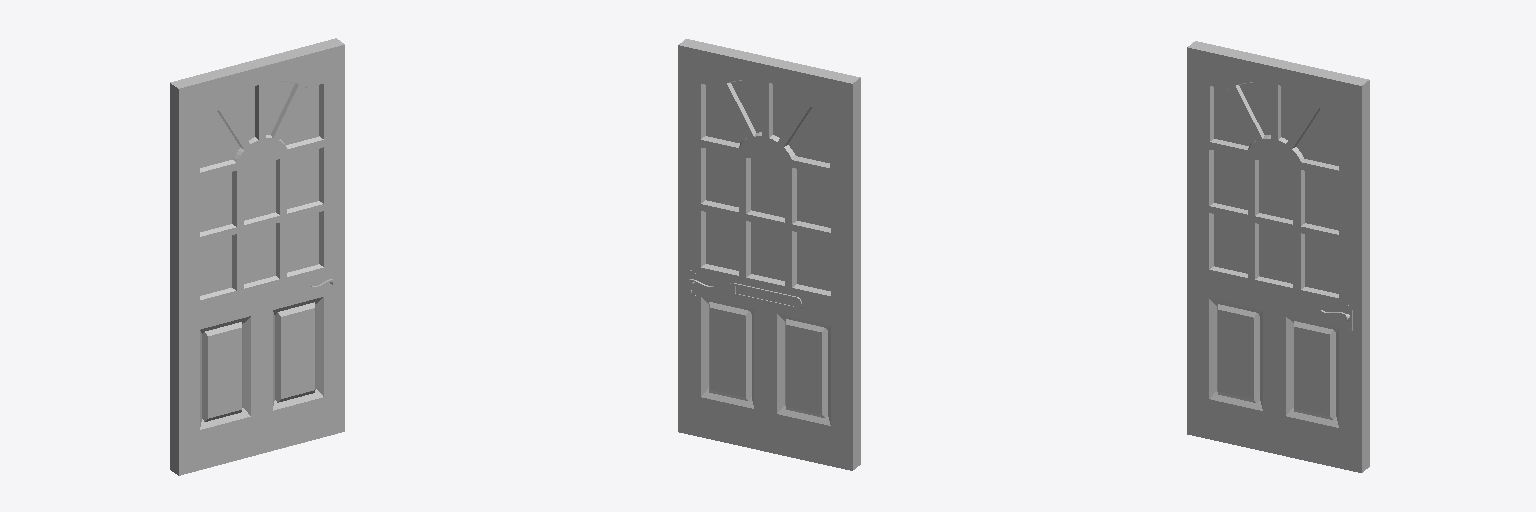
Rendered from door2_000003.obj.
3 renders of one model, left to right at view 1: azimuth 30°, elevation 25°; view 2: azimuth 150°, elevation 25°; view 3: azimuth 330°, elevation 25°, orthographic.
Visible parts, largest first — view 1: Door.000_Door.004; view 2: Door.000_Door.004; view 3: Door.000_Door.004.
Boxes of the visible parts, x1=… form: Door.000_Door.004: x1=170, y1=38, x2=344, y2=475; Door.000_Door.004: x1=678, y1=39, x2=860, y2=470; Door.000_Door.004: x1=1187, y1=41, x2=1369, y2=472.
Size of the model in its own units: 0.7414 by 1.6 by 0.1189.